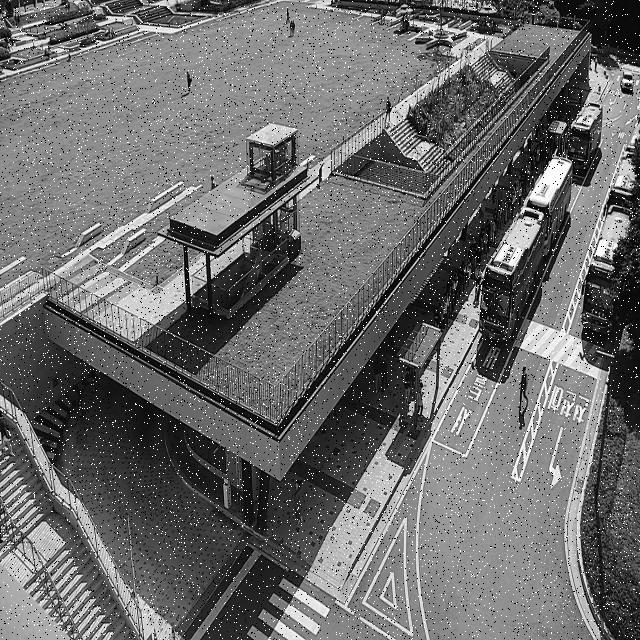queue: (416, 110, 562, 428)
